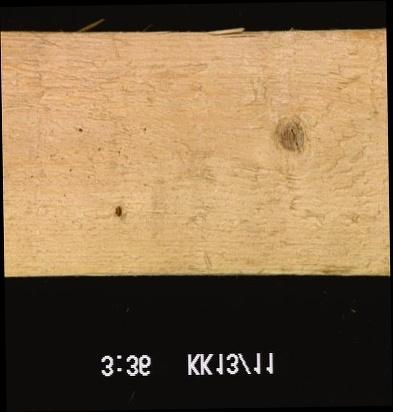small_knot: (111, 203, 121, 218)
sound_knot: (273, 116, 305, 152)
wave: (202, 30, 267, 45)
